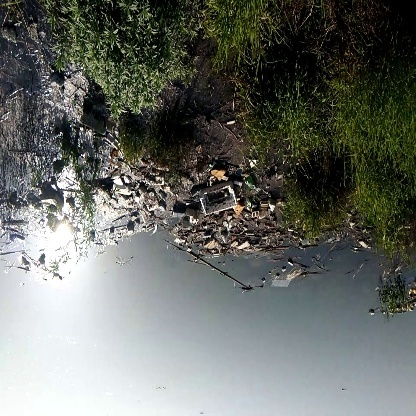branch: (197, 256, 256, 296)
